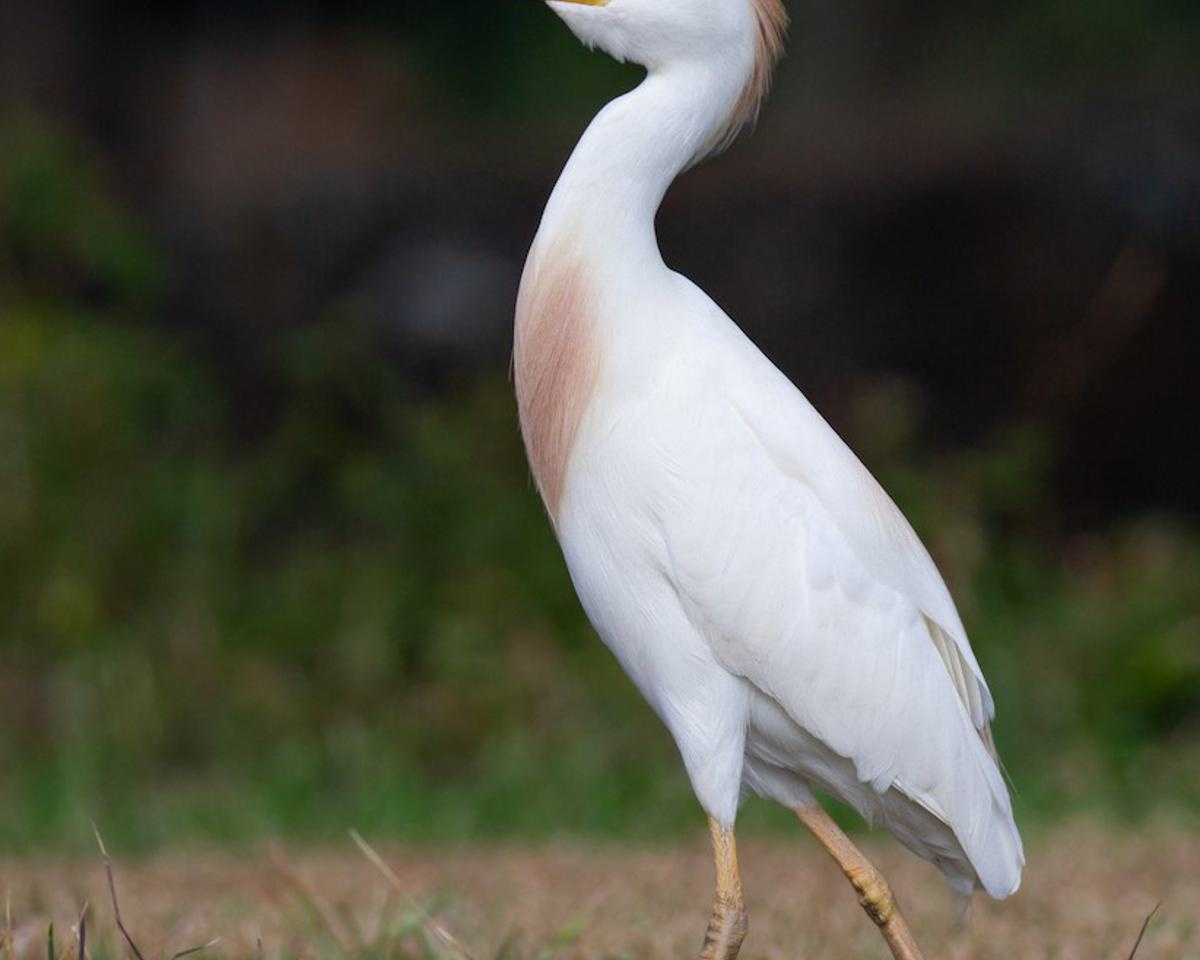egret: (481, 3, 1022, 944)
